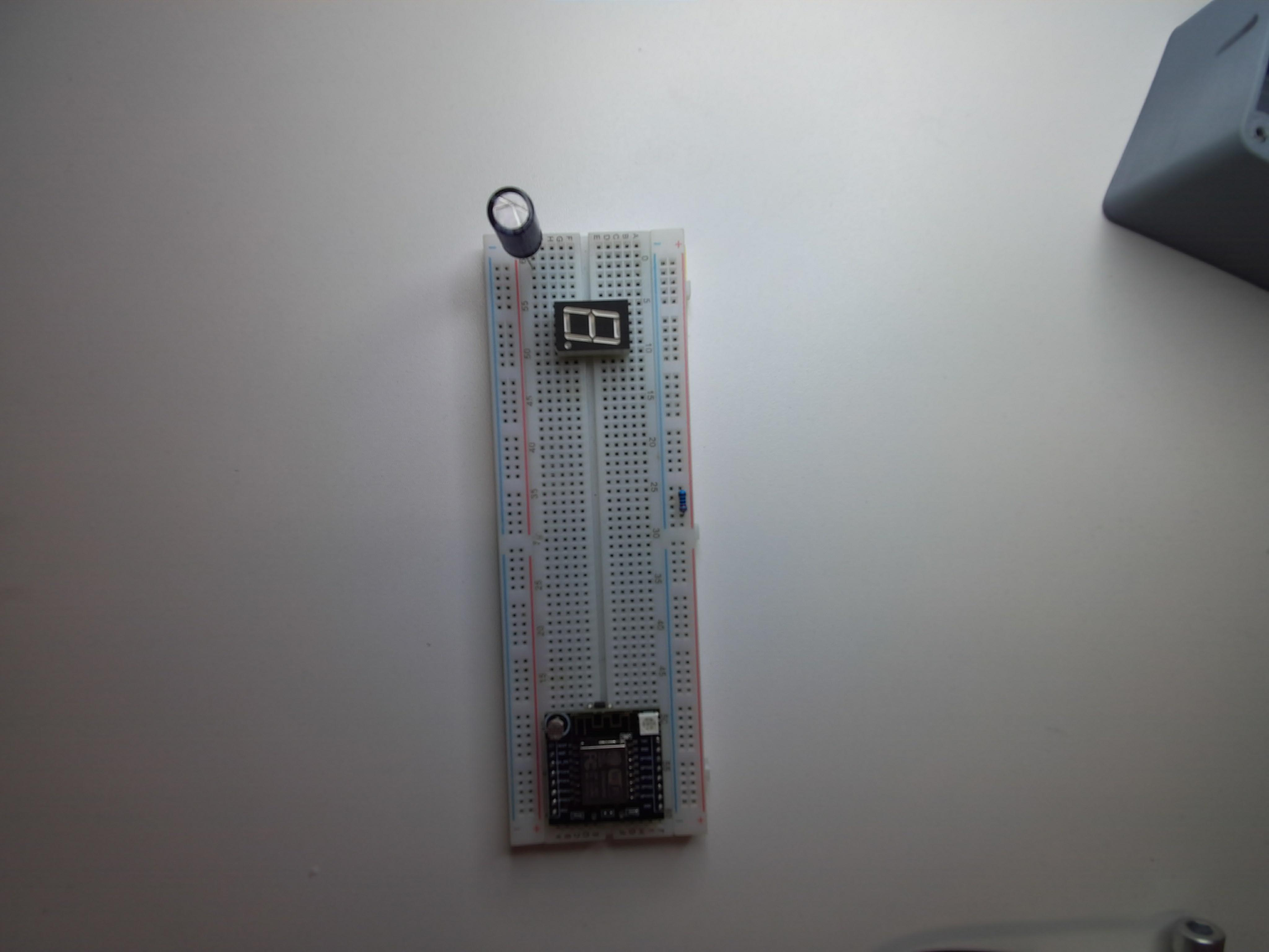base: (477, 206, 701, 851)
capacitor: (485, 183, 546, 261)
digit-board: (550, 298, 635, 362)
esp: (544, 704, 667, 827)
resistor-small: (675, 488, 688, 520)
